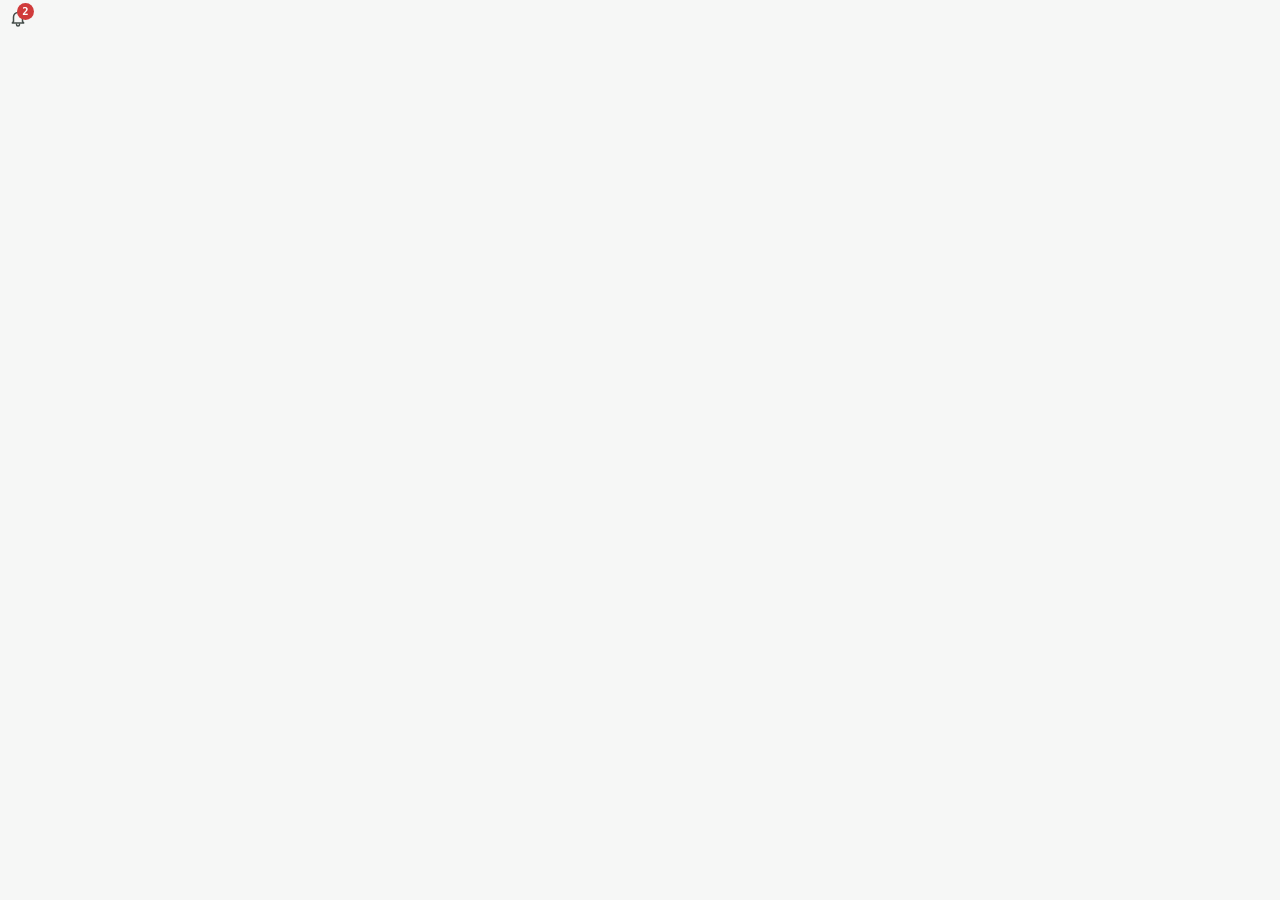
it: en anglais, le texte suit la langue
This screenshot has width=1280, height=900.
Click the button named "Notifications, 2 unread" at (18, 18), box [0,0,36,36]
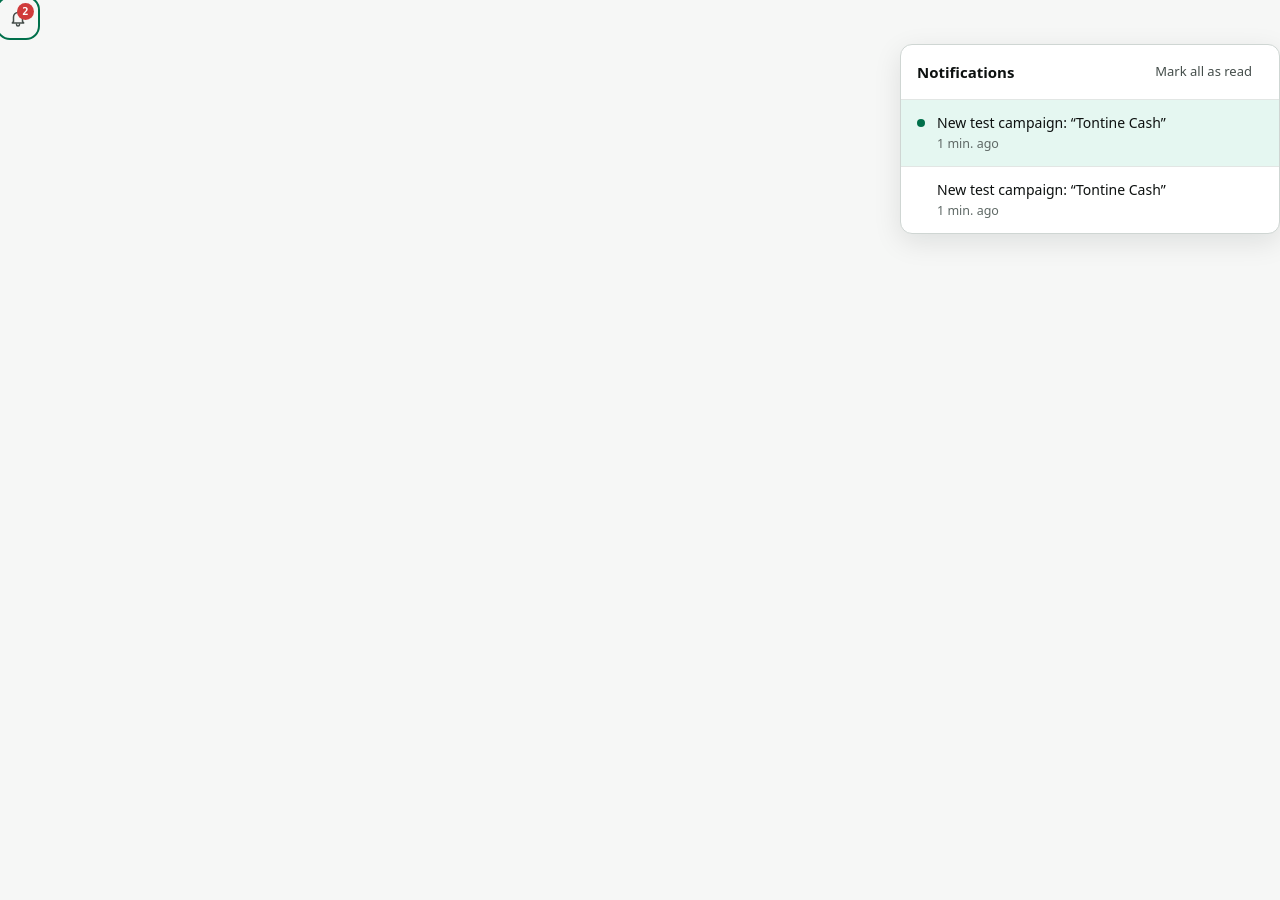
Check: the text "New test campaign: “Tontine Cash” 1 min. ago" is shown 2 times, box [937,112,1166,154]; [937,179,1166,221]
